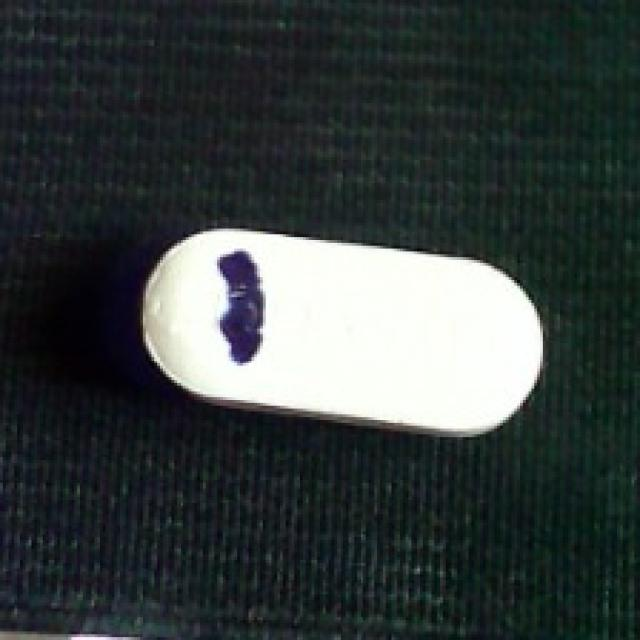defected: (131, 226, 546, 437)
